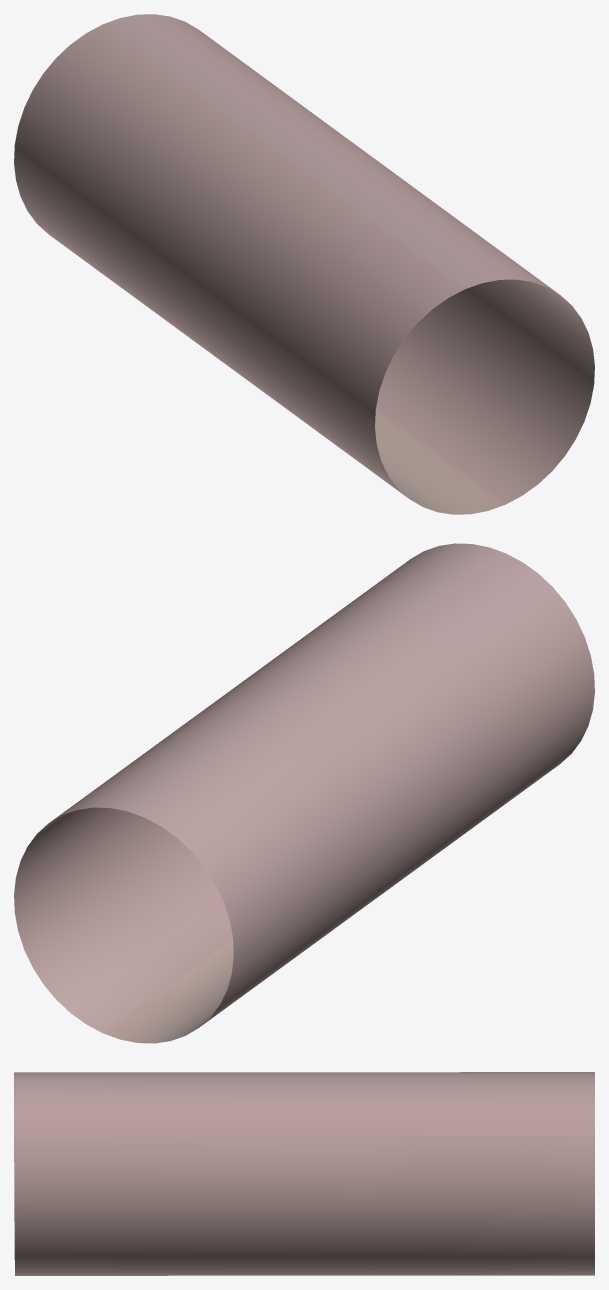
The model's file is metal_rod.gltf.
3 renders of one model, top to bottom at view 1: azimuth 30°, elevation 25°; view 2: azimuth 150°, elevation 25°; view 3: azimuth 270°, elevation 25°, orthographic. The views are drawn at different scales.
Parts seen in each view (by area): view 1: g; view 2: g; view 3: g.
Part boxes in pixels (box(x1,y1,x2,y2)): g: box(14, 14, 594, 514); g: box(14, 543, 594, 1043); g: box(14, 1072, 594, 1275).
Size of the model in its own units: 0.0419 by 0.042 by 0.1194.
1 material, 1 textured.
